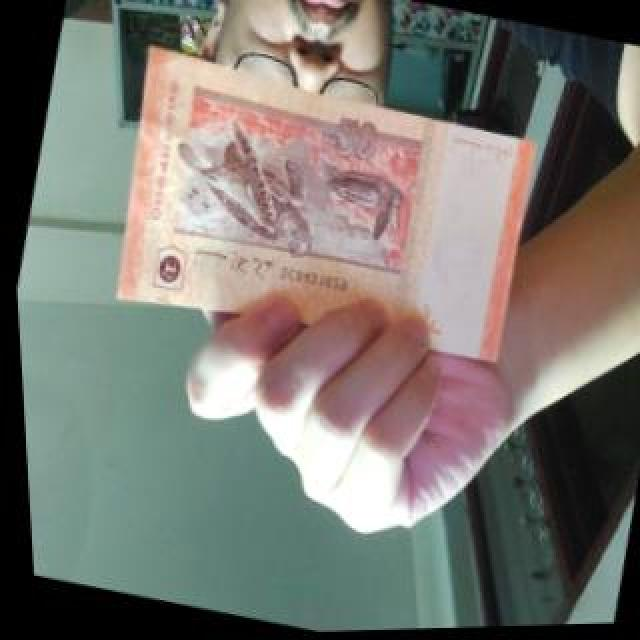20 Ringgit: (90, 42, 543, 382)
